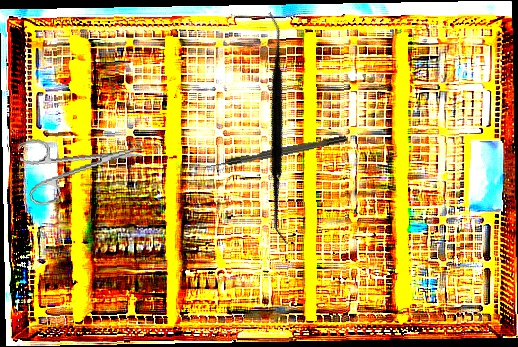Hook Surgical: (202, 135, 348, 171)
Iris Scissors: (17, 121, 148, 208)
Spatula Surgical: (174, 10, 384, 246)
